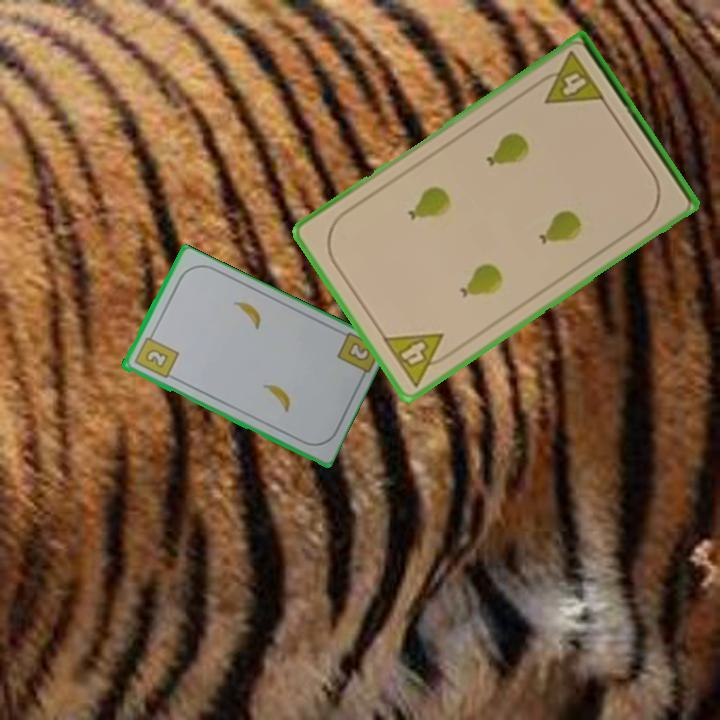2b: (130, 329, 181, 381), (346, 341, 371, 362)
4p: (378, 329, 458, 390), (531, 47, 608, 108)
